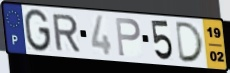4: (90, 15, 114, 58)
5: (150, 20, 174, 62)
D: (174, 21, 206, 64)
G: (24, 8, 52, 53)
P: (114, 16, 142, 58)
R: (51, 13, 82, 53)
